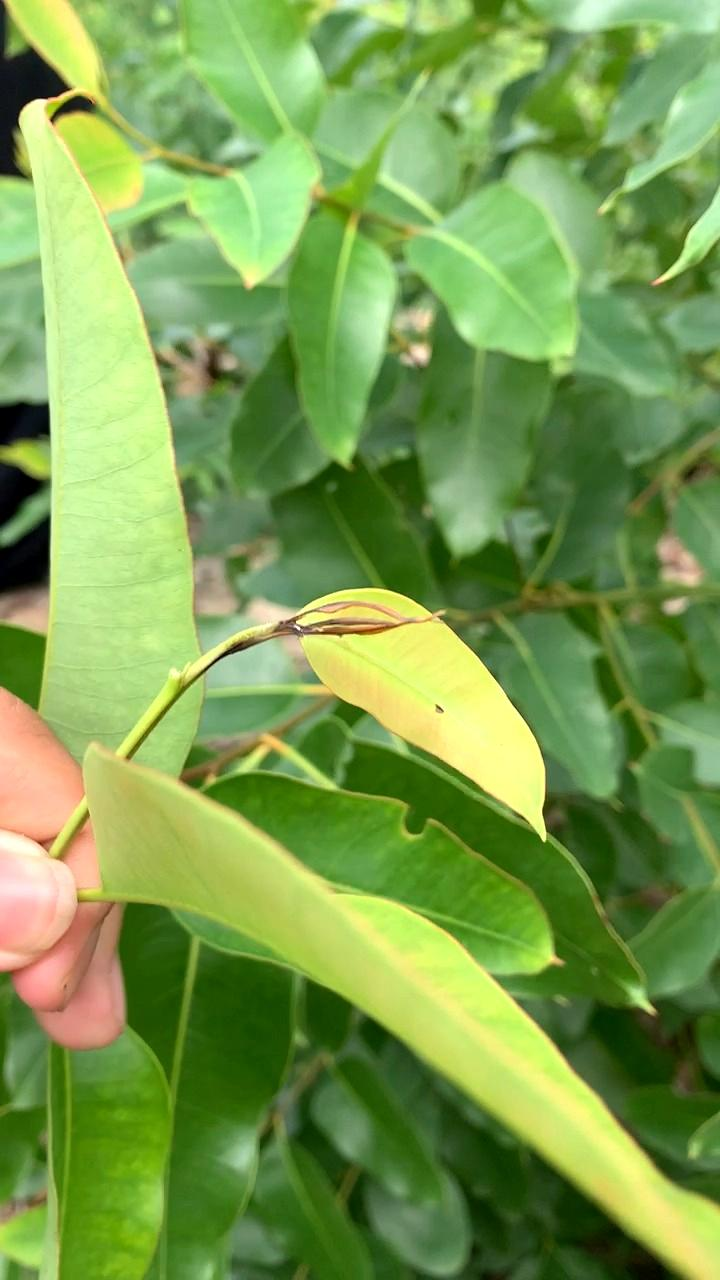Helopeltis-Withered Sprout: (257, 573, 463, 669)
